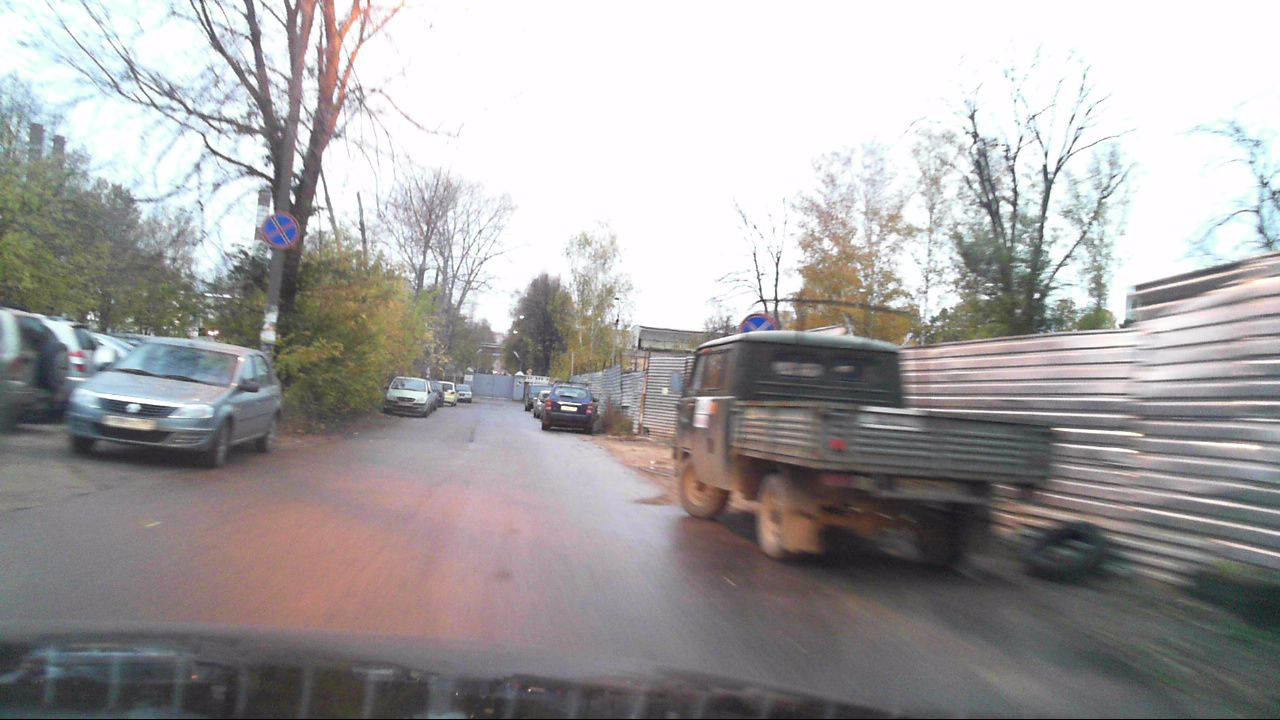No Parking: (740, 314, 775, 347)
